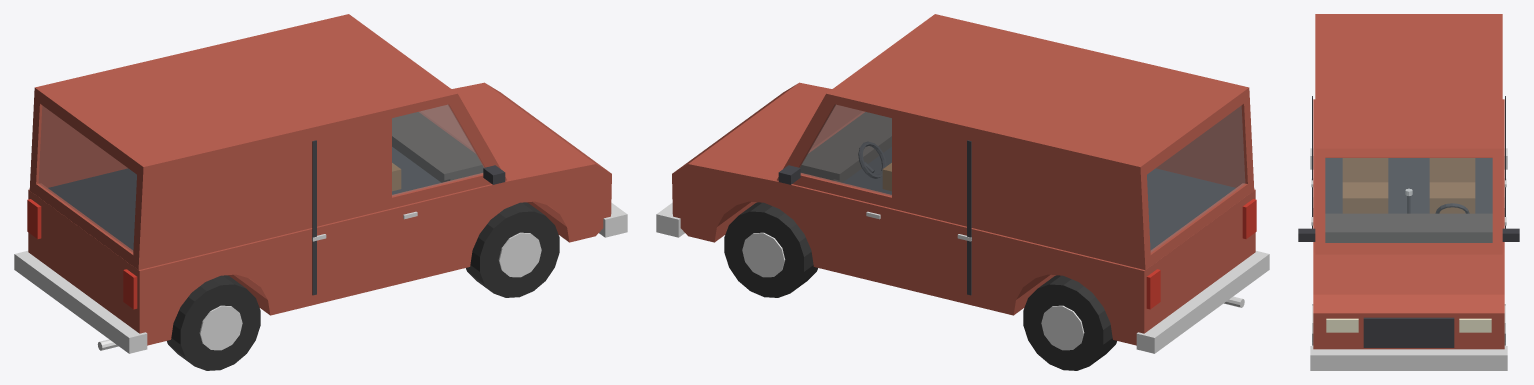
File: van.glb
The picture shows the model from 3 angles, left to right: view 1: azimuth 30°, elevation 25°; view 2: azimuth 150°, elevation 25°; view 3: azimuth 270°, elevation 25°; orthographic projection. The views are drawn at different scales.
Parts seen in each view (by area): view 1: Body.004, Glass.004, Tire.004, Chrome.004, Dark.004, Dash.004, Tail.004; view 2: Body.004, Glass.004, Tire.004, Chrome.004, Dark.004, Dash.004, Tail.004; view 3: Body.004, Glass.004, Dark.004, Seat.004, Dash.004, Chrome.004, Headlight.004.
Boxes of the visible parts, x1,y1,x2,y2 form: Body.004: (28,14,611,345); Glass.004: (39,104,483,251); Tire.004: (167,202,559,370); Chrome.004: (14,202,627,353); Dark.004: (48,140,505,295); Dash.004: (392,112,483,182); Tail.004: (27,199,137,309); Body.004: (672,14,1255,345); Glass.004: (800,104,1244,251); Tire.004: (724,202,1116,370); Chrome.004: (656,202,1269,353); Dark.004: (778,140,1235,295); Dash.004: (800,112,891,182); Tail.004: (1146,199,1256,309); Body.004: (1313,14,1504,349); Glass.004: (1325,158,1492,242); Dark.004: (1298,96,1519,347); Seat.004: (1342,158,1475,213); Dash.004: (1325,213,1492,242); Chrome.004: (1310,148,1507,370); Headlight.004: (1326,318,1491,332).
Bounding box in the file's own units: 4.92 × 2.08 × 2.2.
